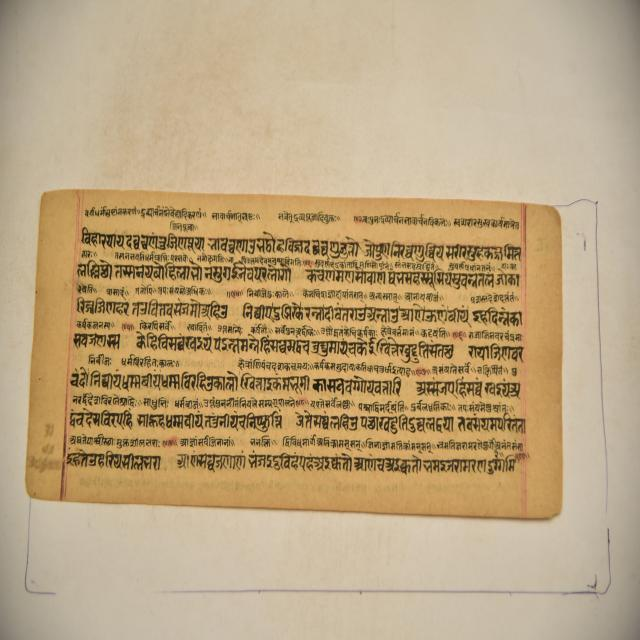text_paragraph: (26, 192, 561, 519)
